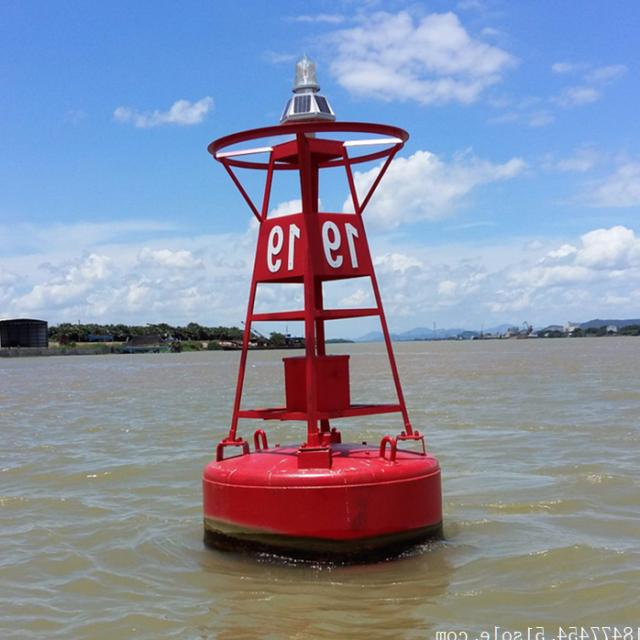buoy: (175, 49, 449, 558)
